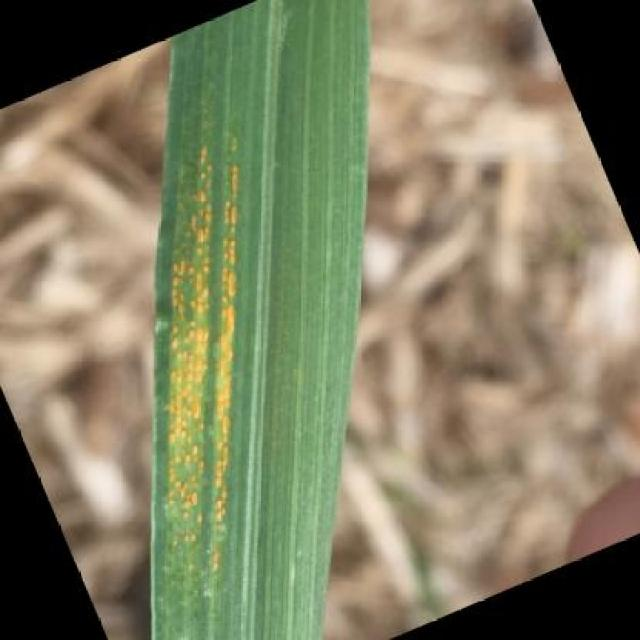Corn_Rust: (140, 52, 372, 608)
